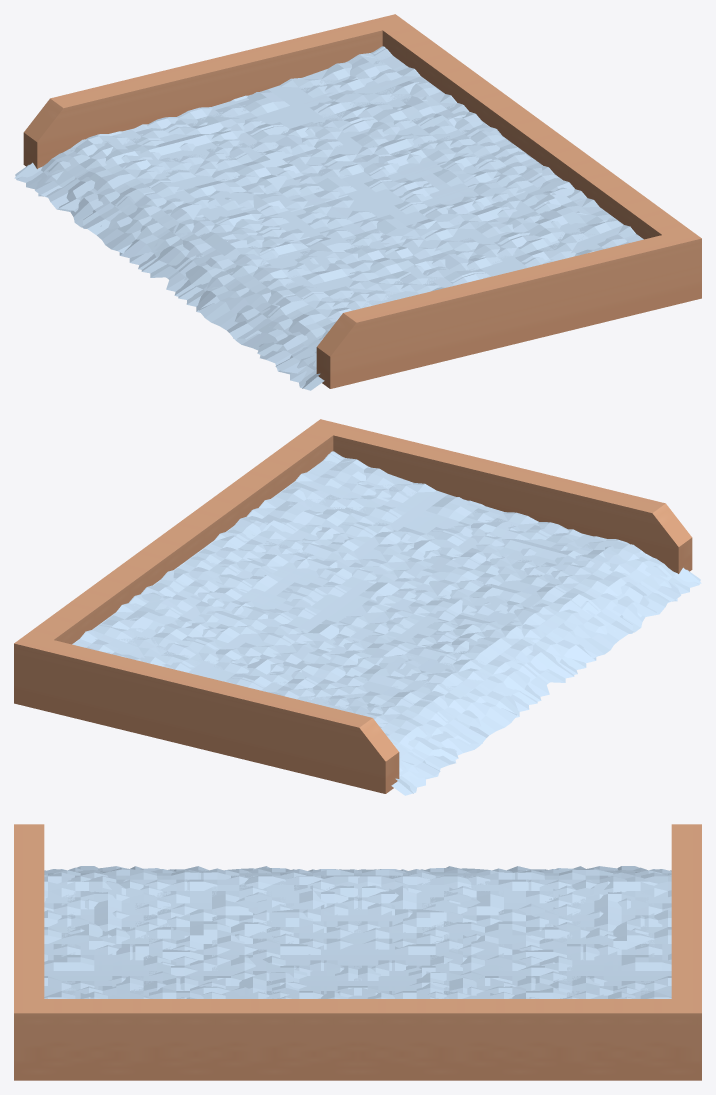
The model's file is stallDisplayIce.fbx.
3 views of the same model, one above another, from view 1: azimuth 30°, elevation 25°; view 2: azimuth 150°, elevation 25°; view 3: azimuth 270°, elevation 25° (orthographic). The views are drawn at different scales.
Parts seen in each view (by area): view 1: stallDisplayIce; view 2: stallDisplayIce; view 3: stallDisplayIce.
Part boxes in pixels (box(x1,y1,x2,y2)): stallDisplayIce: box(14, 14, 701, 390); stallDisplayIce: box(14, 419, 701, 795); stallDisplayIce: box(14, 824, 701, 1080).
Size of the model in its own units: 0.657 by 0.8929 by 0.1.
